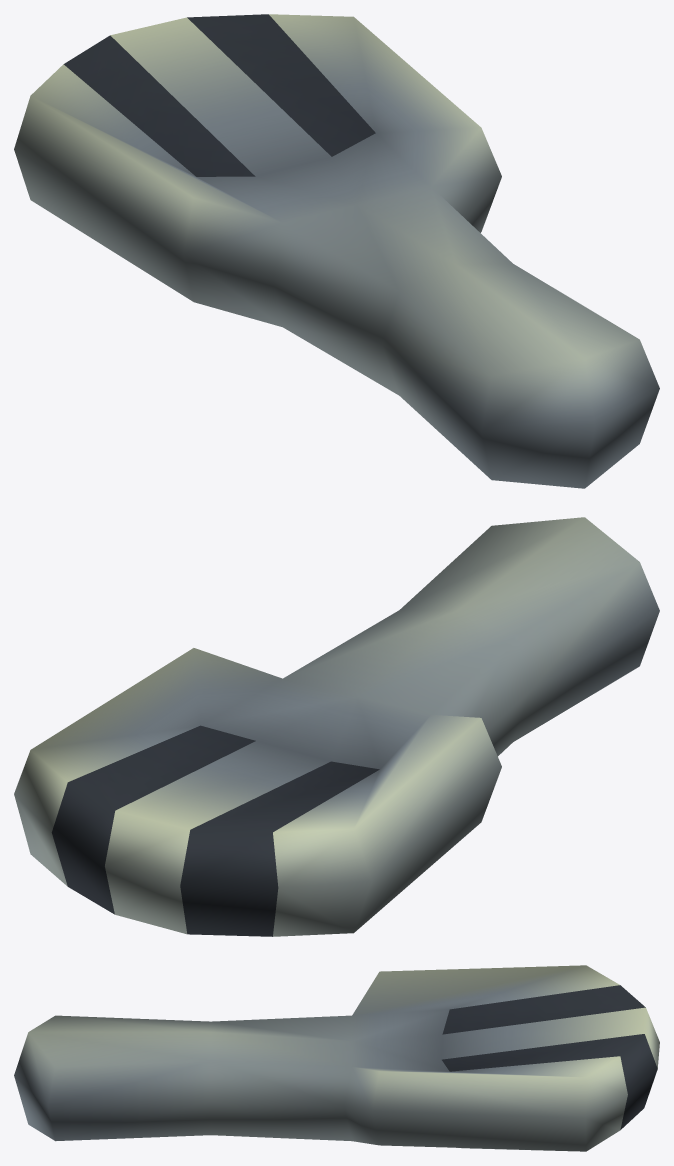
File: fork_LOD_setup.fbx
3 views of the same model, one above another, from view 1: azimuth 30°, elevation 25°; view 2: azimuth 150°, elevation 25°; view 3: azimuth 270°, elevation 25° (orthographic). The views are drawn at different scales.
Visible parts, largest first — view 1: fork_LOD0; view 2: fork_LOD0; view 3: fork_LOD0.
Boxes of the visible parts, <box> form: fork_LOD0: <box>14,14,659,488</box>; fork_LOD0: <box>14,517,659,936</box>; fork_LOD0: <box>14,965,659,1151</box>.
Size of what is drawn, in the model's own units: 24.13 by 9.42 by 53.07.
